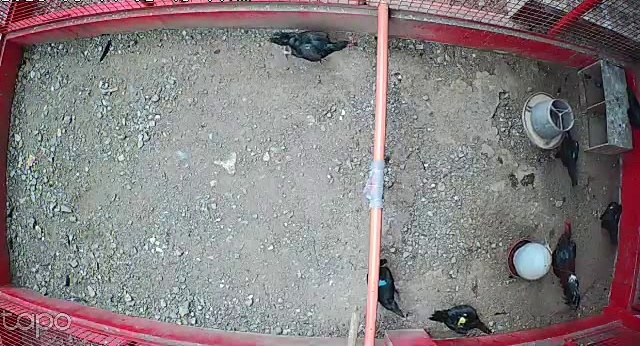Chicken: (270, 28, 357, 68), (427, 298, 497, 340), (366, 256, 411, 319), (547, 121, 584, 192), (596, 196, 624, 252)
Rooster: (543, 217, 586, 315)
Saddle_Color_Blue: (377, 278, 385, 286)
Saddle_Color_Yellow: (458, 313, 466, 325)
